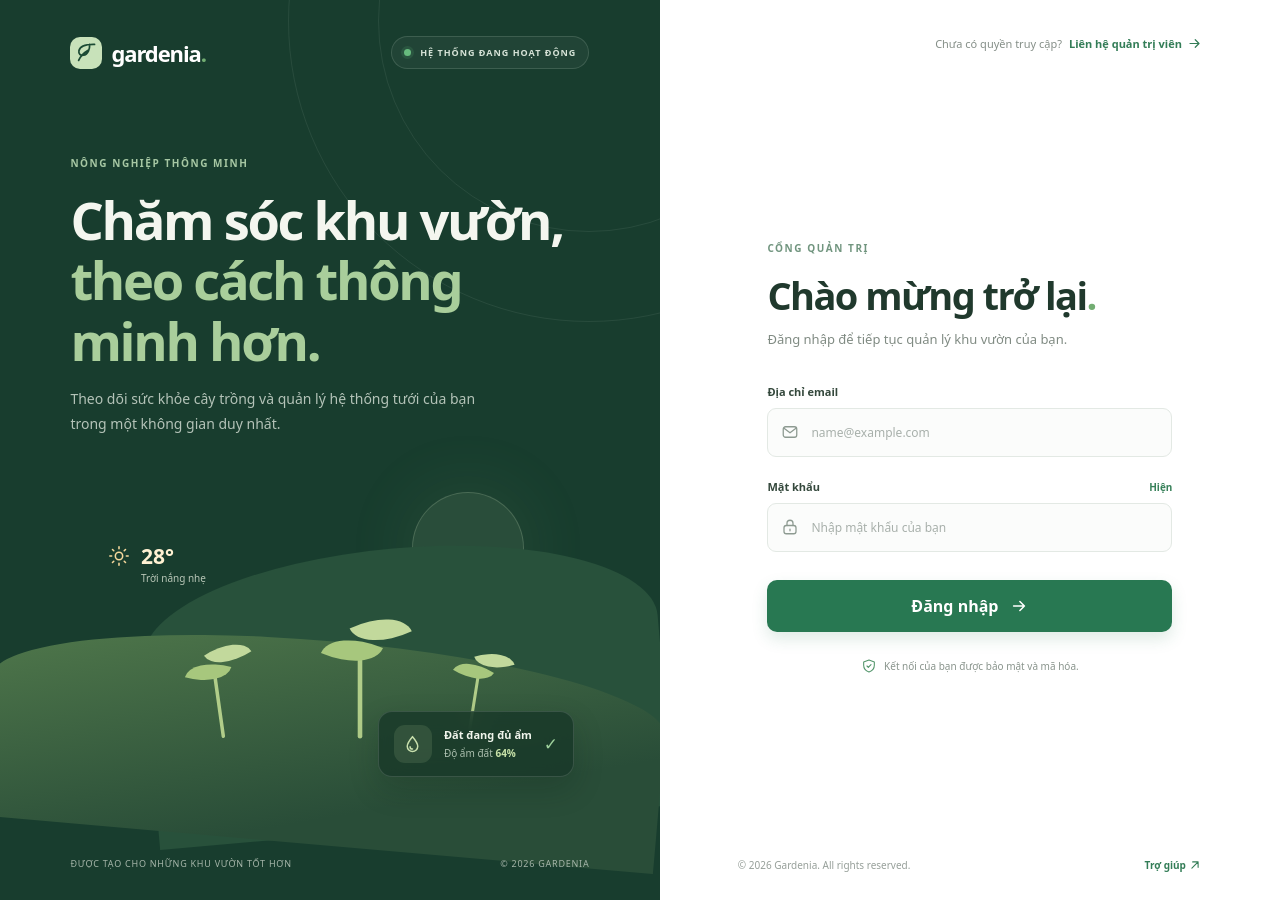
it: logs in an administrator and opens the dashboard
The width and height of the screenshot is (1280, 900).
In the field labelled "Địa chỉ email": [970, 432] box left=767, top=408, right=1172, bottom=456, type "admin@example.com"
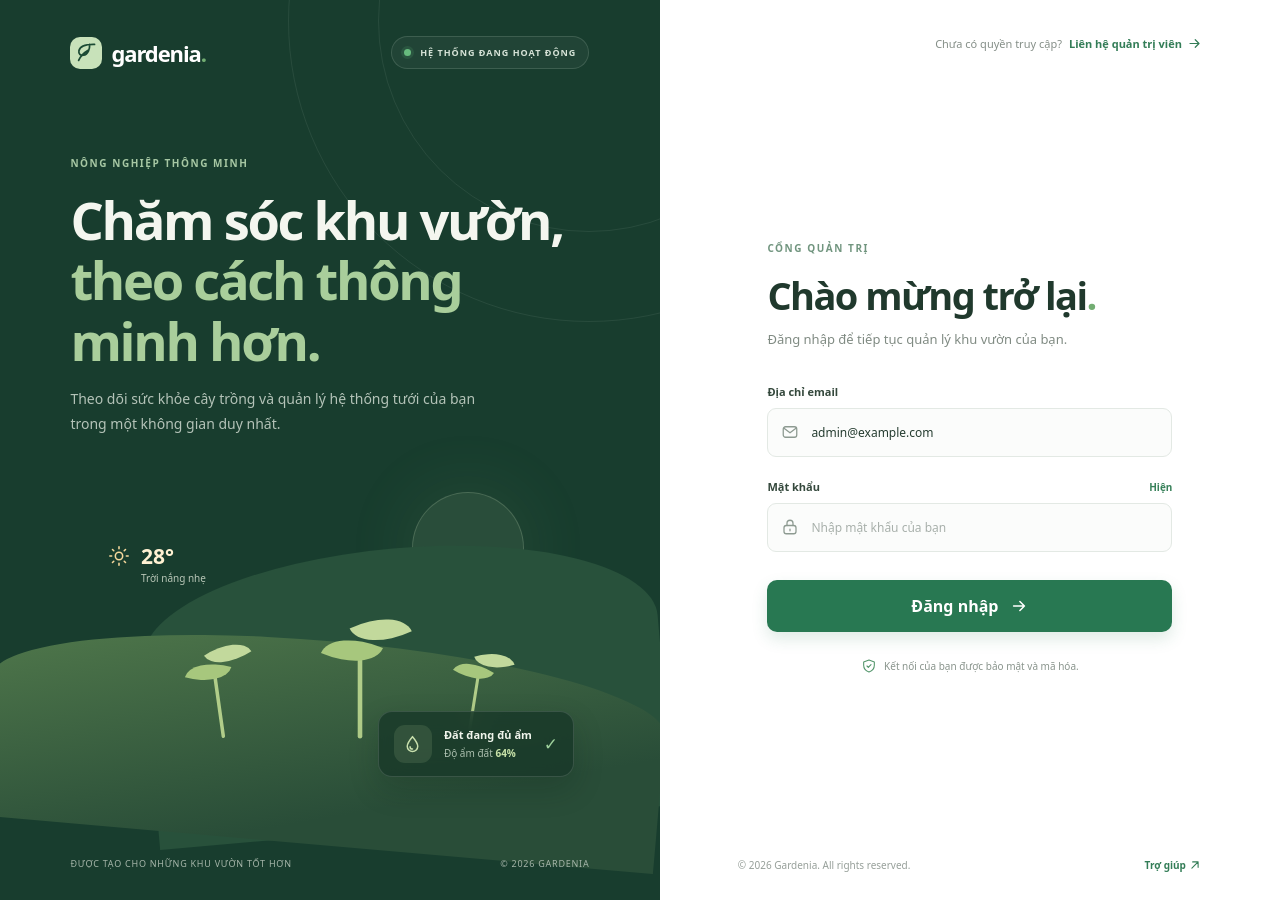
In the password field labelled "Mật khẩu": [970, 527] box left=767, top=502, right=1172, bottom=552, type "admin-password"
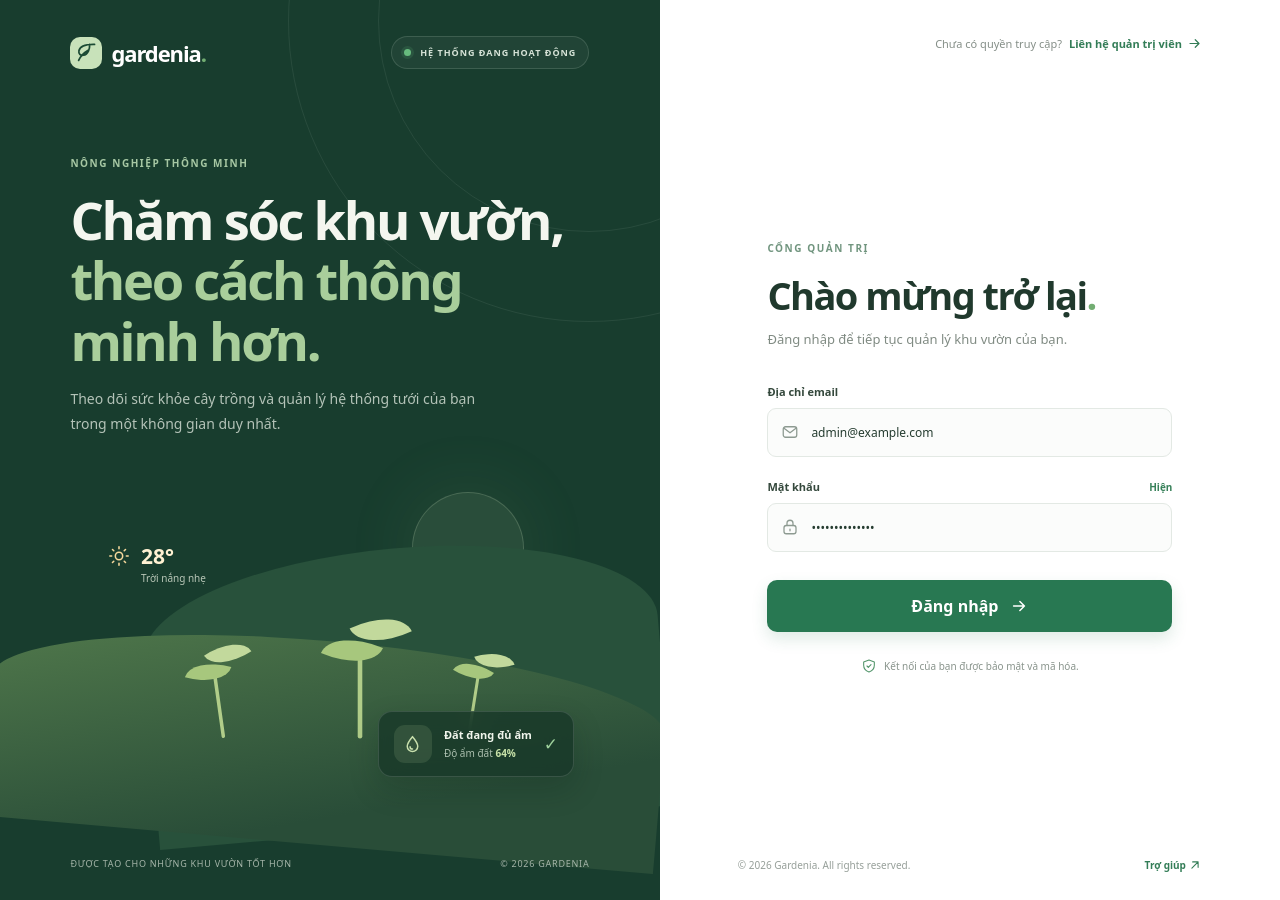
Click the button "Đăng nhập": [970, 606] box left=767, top=580, right=1172, bottom=632
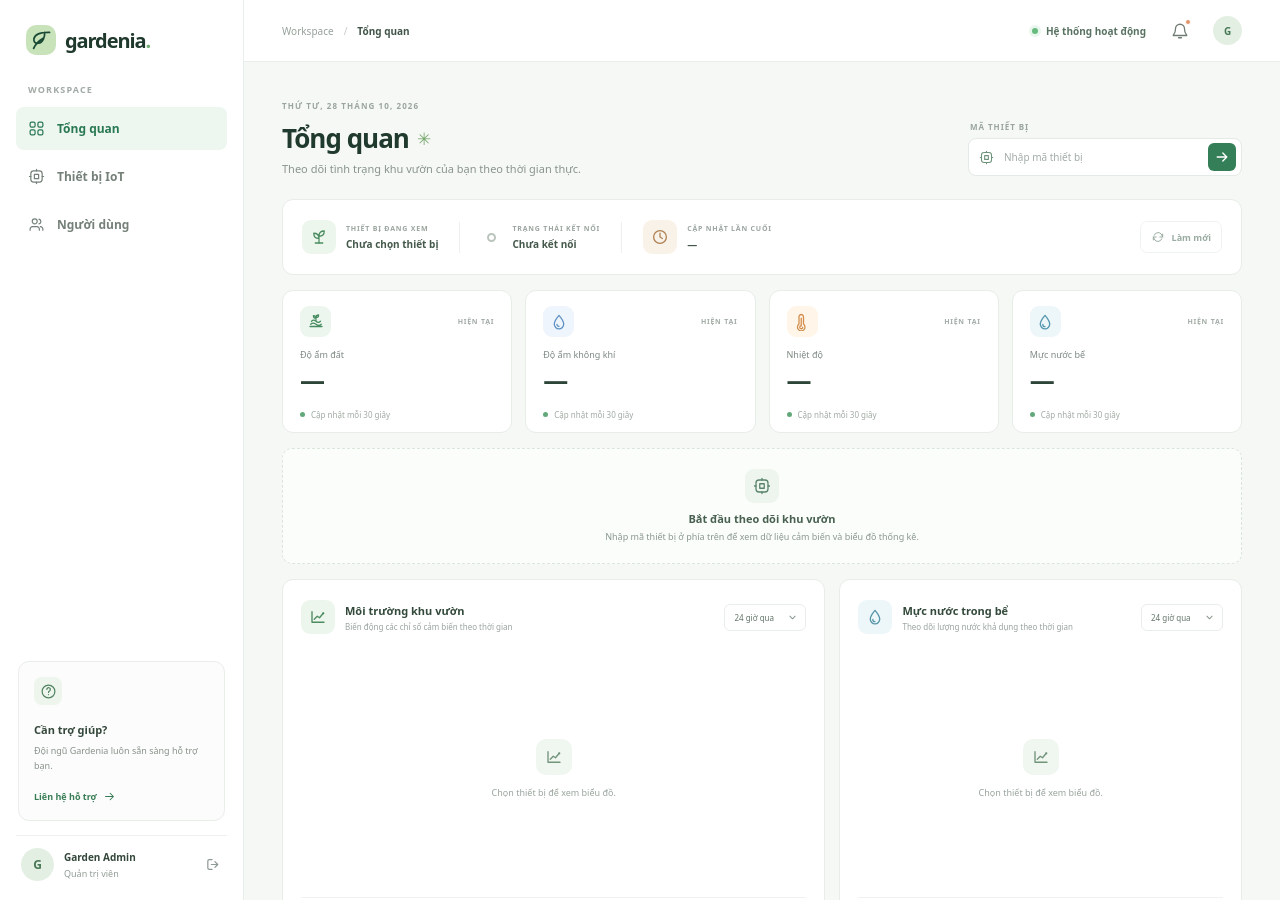
Expected: the heading "Tổng quan ✳" is shown, left=282, top=120, right=430, bottom=156
